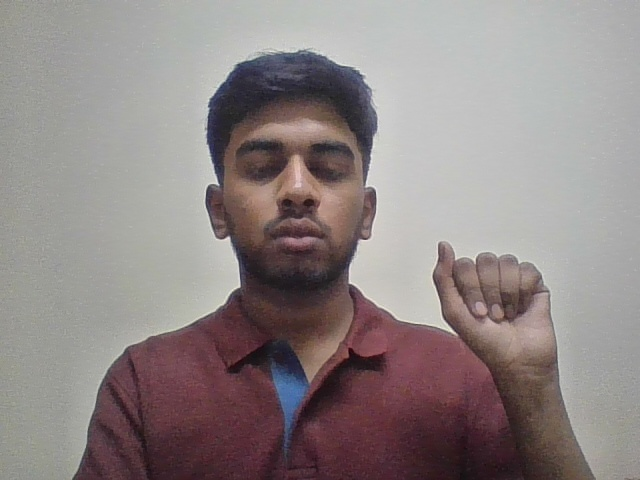A: (426, 230, 587, 382)
